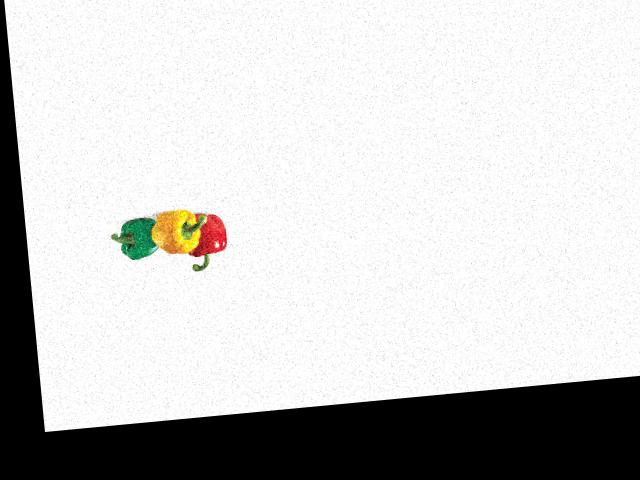bell_pepper: (110, 211, 165, 265)
